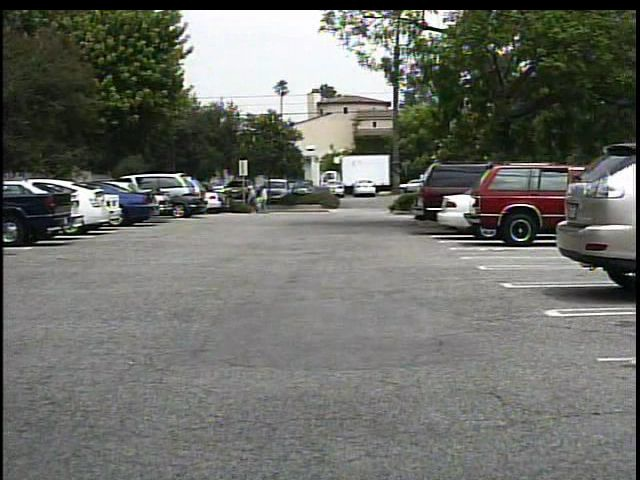person: (260, 183, 274, 217), (245, 184, 261, 209), (262, 185, 263, 216)
